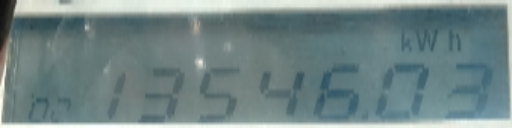0: (381, 59, 428, 121)
1: (87, 66, 134, 128)
3: (138, 66, 185, 128), (447, 60, 494, 122)
4: (259, 59, 306, 121)
5: (198, 63, 245, 125)
6: (312, 59, 359, 121)
d: (356, 105, 377, 128)
